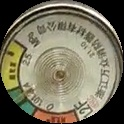green: (4, 85, 39, 118)
needle: (13, 81, 38, 102)
red: (32, 108, 81, 124)
yellow: (1, 39, 27, 90)
